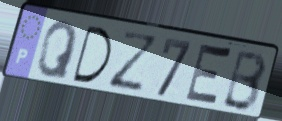7: (156, 36, 195, 99)
B: (219, 49, 269, 114)
D: (70, 23, 114, 85)
E: (182, 40, 235, 111)
Q: (35, 20, 80, 82)
Z: (105, 28, 161, 93)
